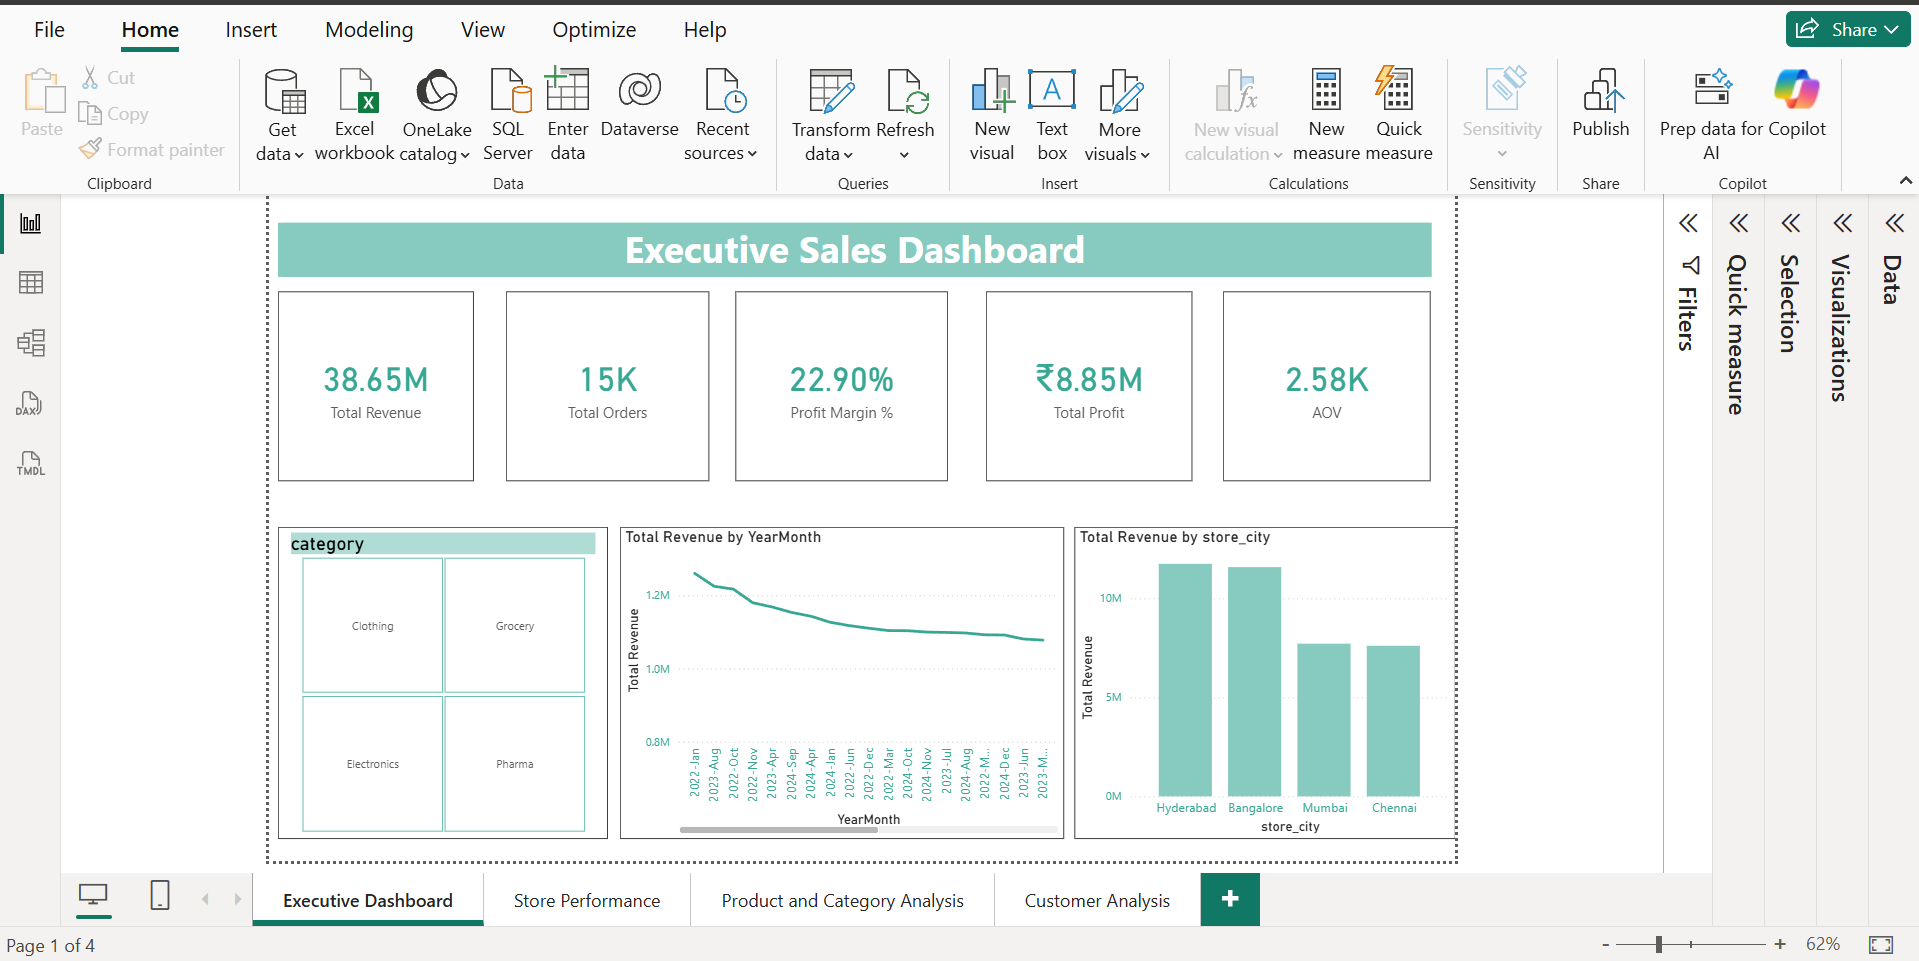

The dashboard page shown, as its layout file describes it:
{"tool":"powerbi","page":{"name":"Executive Dashboard","canvas":[1280,720],"ordinal":0},"visuals":[{"type":"card","fields":{"Values":["fact_sales.Total Revenue"]},"box":[9.9,105.6,211.1,204.5],"z":0},{"type":"card","fields":{"Values":["fact_sales.Total Profit"]},"box":[773.6,105.6,222.7,204.5],"z":1000},{"type":"card","fields":{"Values":["fact_sales.Total Orders"]},"box":[255.7,105.6,219.4,204.5],"z":2000},{"type":"card","fields":{"Values":["fact_sales.AOV"]},"box":[1029.3,105.6,224.3,204.5],"z":3000},{"type":"card","fields":{"Values":["fact_sales.Profit Margin %"]},"box":[503.1,105.6,229.3,204.5],"z":4000},{"type":"slicer","fields":{"Values":["dim_products.category"]},"box":[9.7,359.5,356.2,336.8],"z":5000},{"type":"lineChart","fields":{"Category":["Date.YearMonth"],"Y":["fact_sales.Total Revenue"]},"box":[378.9,359.5,479.3,336.8],"z":6000},{"type":"clusteredColumnChart","fields":{"Category":["dim_stores.store_city"],"Y":["fact_sales.Total Revenue"]},"box":[869.5,359.5,411.3,336.8],"z":7000},{"type":"textbox","title":"Executive Sales Dashboard","box":[9.9,31.3,1245.4,59.4],"z":8000}]}

Visuals, with their boxes on the page's 1280x720 design canvas (x1, y1, x2, y2). These are canvas units, not pixel positions in the 1919x961 screenshot, which may show the page scaled, cropped or inside an application window:
card - fact_sales.Total Revenue: [left=10, top=106, right=221, bottom=310]
card - fact_sales.Total Profit: [left=774, top=106, right=996, bottom=310]
card - fact_sales.Total Orders: [left=256, top=106, right=475, bottom=310]
card - fact_sales.AOV: [left=1029, top=106, right=1254, bottom=310]
card - fact_sales.Profit Margin %: [left=503, top=106, right=732, bottom=310]
slicer - dim_products.category: [left=10, top=360, right=366, bottom=696]
lineChart - Date.YearMonth x fact_sales.Total Revenue: [left=379, top=360, right=858, bottom=696]
clusteredColumnChart - dim_stores.store_city x fact_sales.Total Revenue: [left=870, top=360, right=1281, bottom=696]
"Executive Sales Dashboard" textbox: [left=10, top=31, right=1255, bottom=91]
